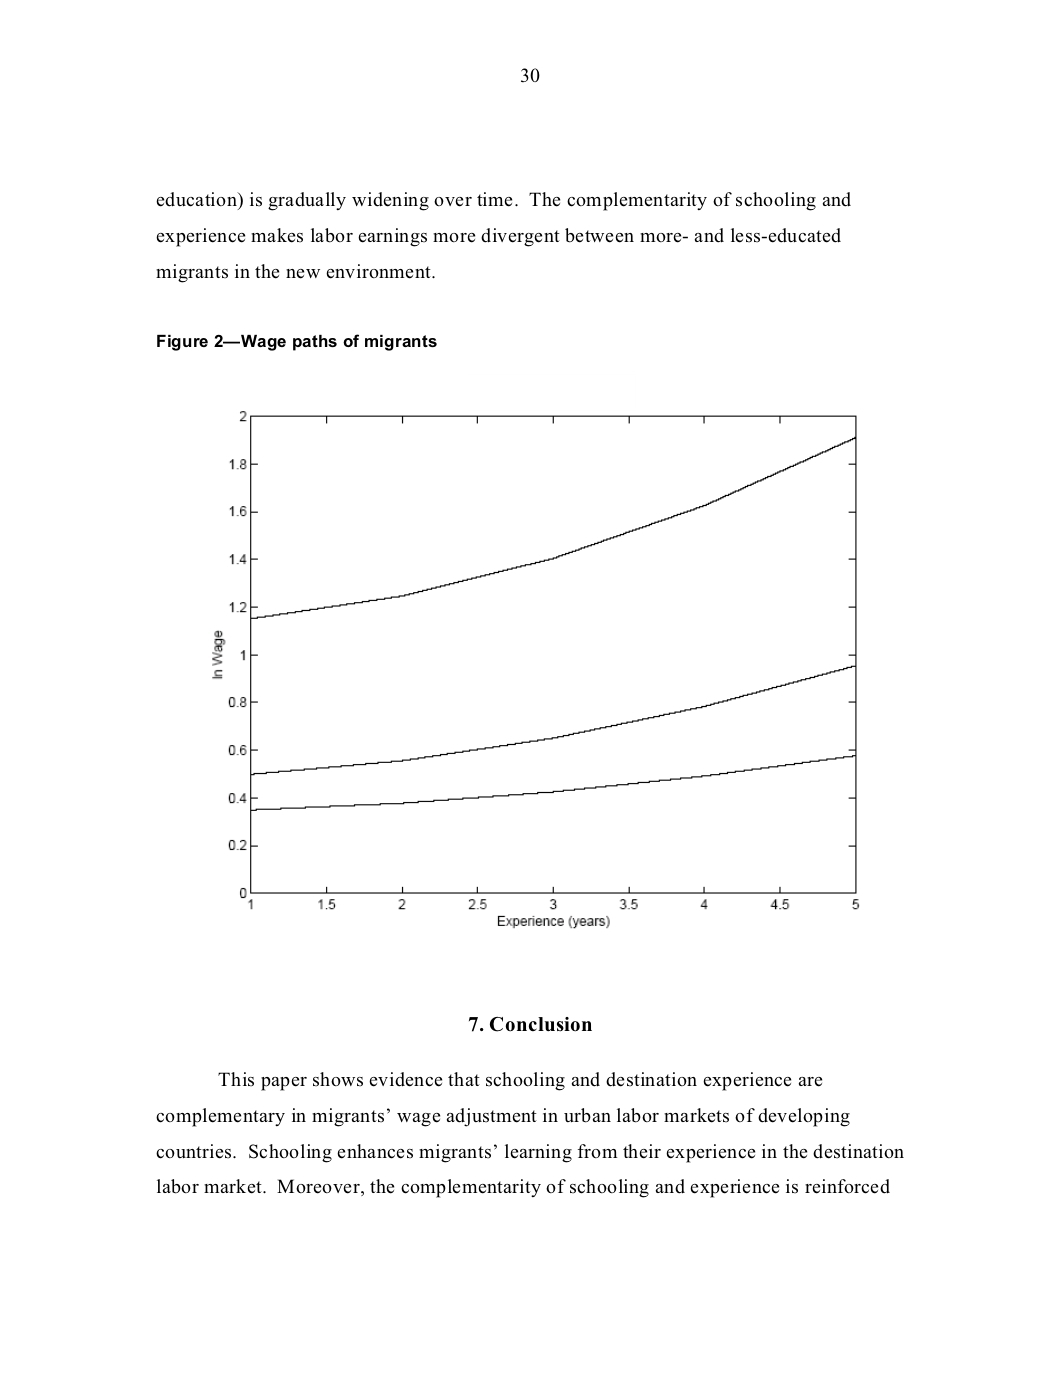figure: (212, 410, 859, 911)
